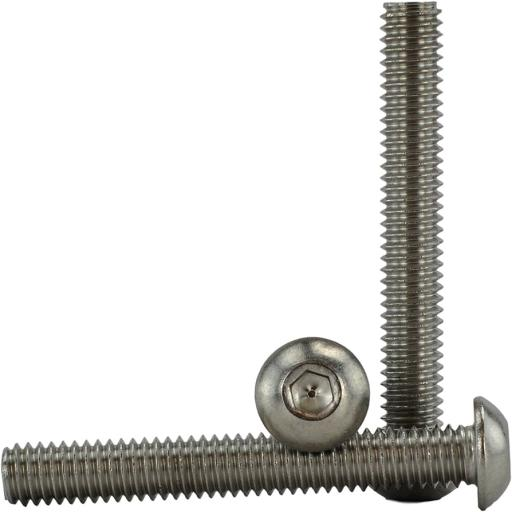Hex-Allen: (253, 333, 368, 454)
